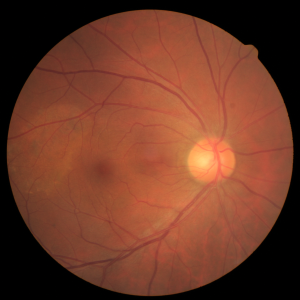retina_disease: (84, 111, 261, 215)
